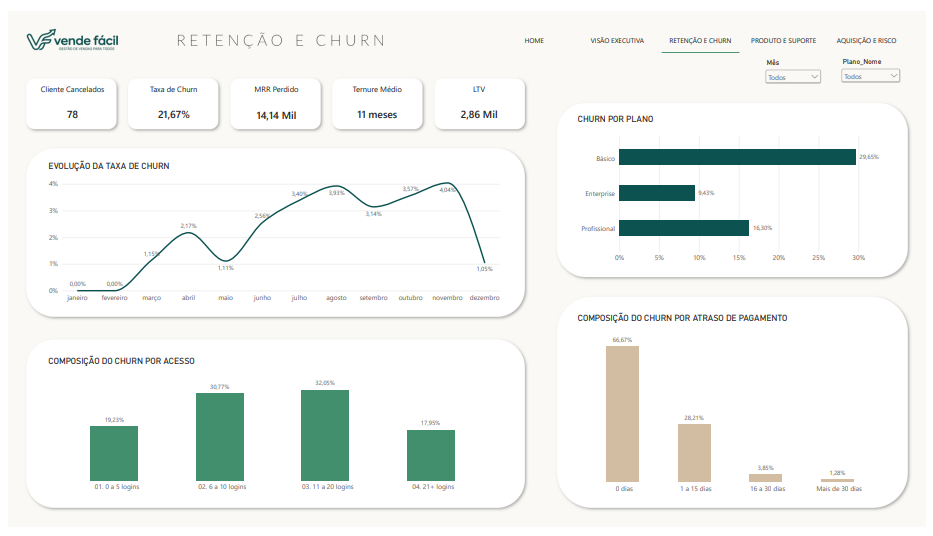

The page's visual inventory and layout, read from the dashboard file:
{"tool":"powerbi","page":{"name":"RETENÇÃO E CHURN","canvas":[1920,1080],"ordinal":2},"visuals":[{"type":"slicer","fields":{"Values":["Dados_Brutos.Data_Referencia.Variation.Hierarquia de datas.Mês"]},"box":[1579.9,100.5,126,77.3],"z":0},{"type":"slicer","fields":{"Values":["dim_plano1.Plano_Nome"]},"box":[1738.5,99.2,133.2,77.3],"z":1000},{"type":"pageNavigator","box":[1017.7,36.8,866.2,50.1],"z":2000},{"type":"cardVisual","title":"Cliente Cancelados","fields":{"Data":["Dados_Brutos.Nº Clientes Cancelados"]},"box":[37.9,153.3,192.8,86.5],"z":3000},{"type":"cardVisual","title":"Taxa de Churn","fields":{"Data":["Dados_Brutos.Taxa de Churn"]},"box":[253.5,153.3,186.7,91.1],"z":4000},{"type":"barChart","title":"CHURN POR PLANO","fields":{"Category":["Dados_Brutos.Nome_Plano"],"Y":["Dados_Brutos.Taxa de Churn"]},"box":[1176.3,203.4,676.9,344.5],"z":5000},{"type":"cardVisual","title":"MRR Perdido","fields":{"Data":["Dados_Brutos.MRR Perdido"]},"box":[466.4,153.6,190.9,90.9],"z":6000},{"type":"cardVisual","title":"Ternure Médio","fields":{"Data":["Dados_Brutos.Tempo Médio de Vida - Cancelados (Meses)"]},"box":[678.2,153.6,189.1,86.4],"z":7000},{"type":"lineChart","title":"EVOLUÇÃO DA TAXA DE CHURN","fields":{"Category":["Dados_Brutos.Data_Referencia.Variation.Hierarquia de datas.Mês"],"Y":["Dados_Brutos.Taxa de Churn"]},"box":[68.3,300.5,980.5,330.9],"z":8000},{"type":"clusteredColumnChart","title":"COMPOSIÇÃO DO CHURN POR ATRASO DE PAGAMENTO","fields":{"Category":["Dados_Brutos.Faixa_Atraso_Pagamento"],"Y":["Dados_Brutos.% Composição do Churn"]},"box":[1176.3,617.7,676.9,412.8],"z":9000},{"type":"clusteredColumnChart","title":"COMPOSIÇÃO DO CHURN POR ACESSO","fields":{"Category":["Dados_Brutos.Faixa_Logins"],"Y":["Dados_Brutos.% Composição do Churn por Acesso"]},"box":[68.3,708.8,980.5,318.7],"z":10000},{"type":"cardVisual","title":"LTV","fields":{"Data":["Dados_Brutos.LTV"]},"box":[891.8,153.6,187.3,86.4],"z":11000}]}

Visuals, with their boxes in screenshot pixels (x1, y1, x2, y2), scaled from the page's 1920x1080 canvas onto the 933x536 screenshot:
slicer - Dados_Brutos.Data_Referencia.Variation.Hierarquia de datas.Mês: <box>768,50,829,88</box>
slicer - dim_plano1.Plano_Nome: <box>845,49,910,88</box>
pageNavigator: <box>495,18,915,43</box>
"Cliente Cancelados" cardVisual: <box>18,76,112,119</box>
"Taxa de Churn" cardVisual: <box>123,76,214,121</box>
"CHURN POR PLANO" barChart: <box>572,101,901,272</box>
"MRR Perdido" cardVisual: <box>227,76,319,121</box>
"Ternure Médio" cardVisual: <box>330,76,421,119</box>
"EVOLUÇÃO DA TAXA DE CHURN" lineChart: <box>33,149,510,313</box>
"COMPOSIÇÃO DO CHURN POR ATRASO DE PAGAMENTO" clusteredColumnChart: <box>572,307,901,511</box>
"COMPOSIÇÃO DO CHURN POR ACESSO" clusteredColumnChart: <box>33,352,510,510</box>
"LTV" cardVisual: <box>433,76,524,119</box>
